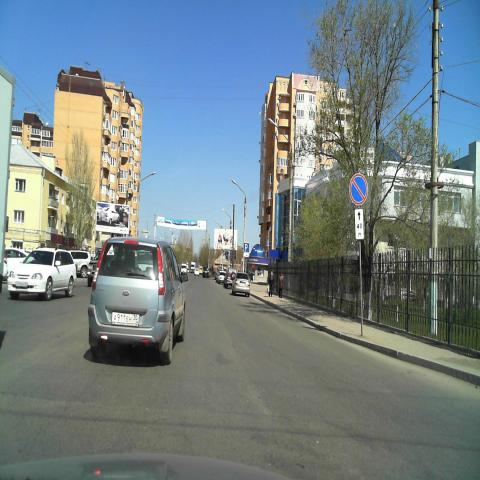3_28: (349, 173, 368, 206)
